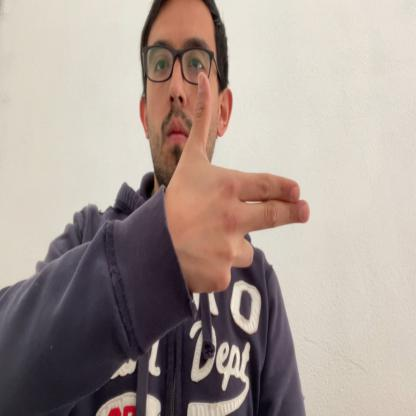H: (171, 72, 310, 293)
